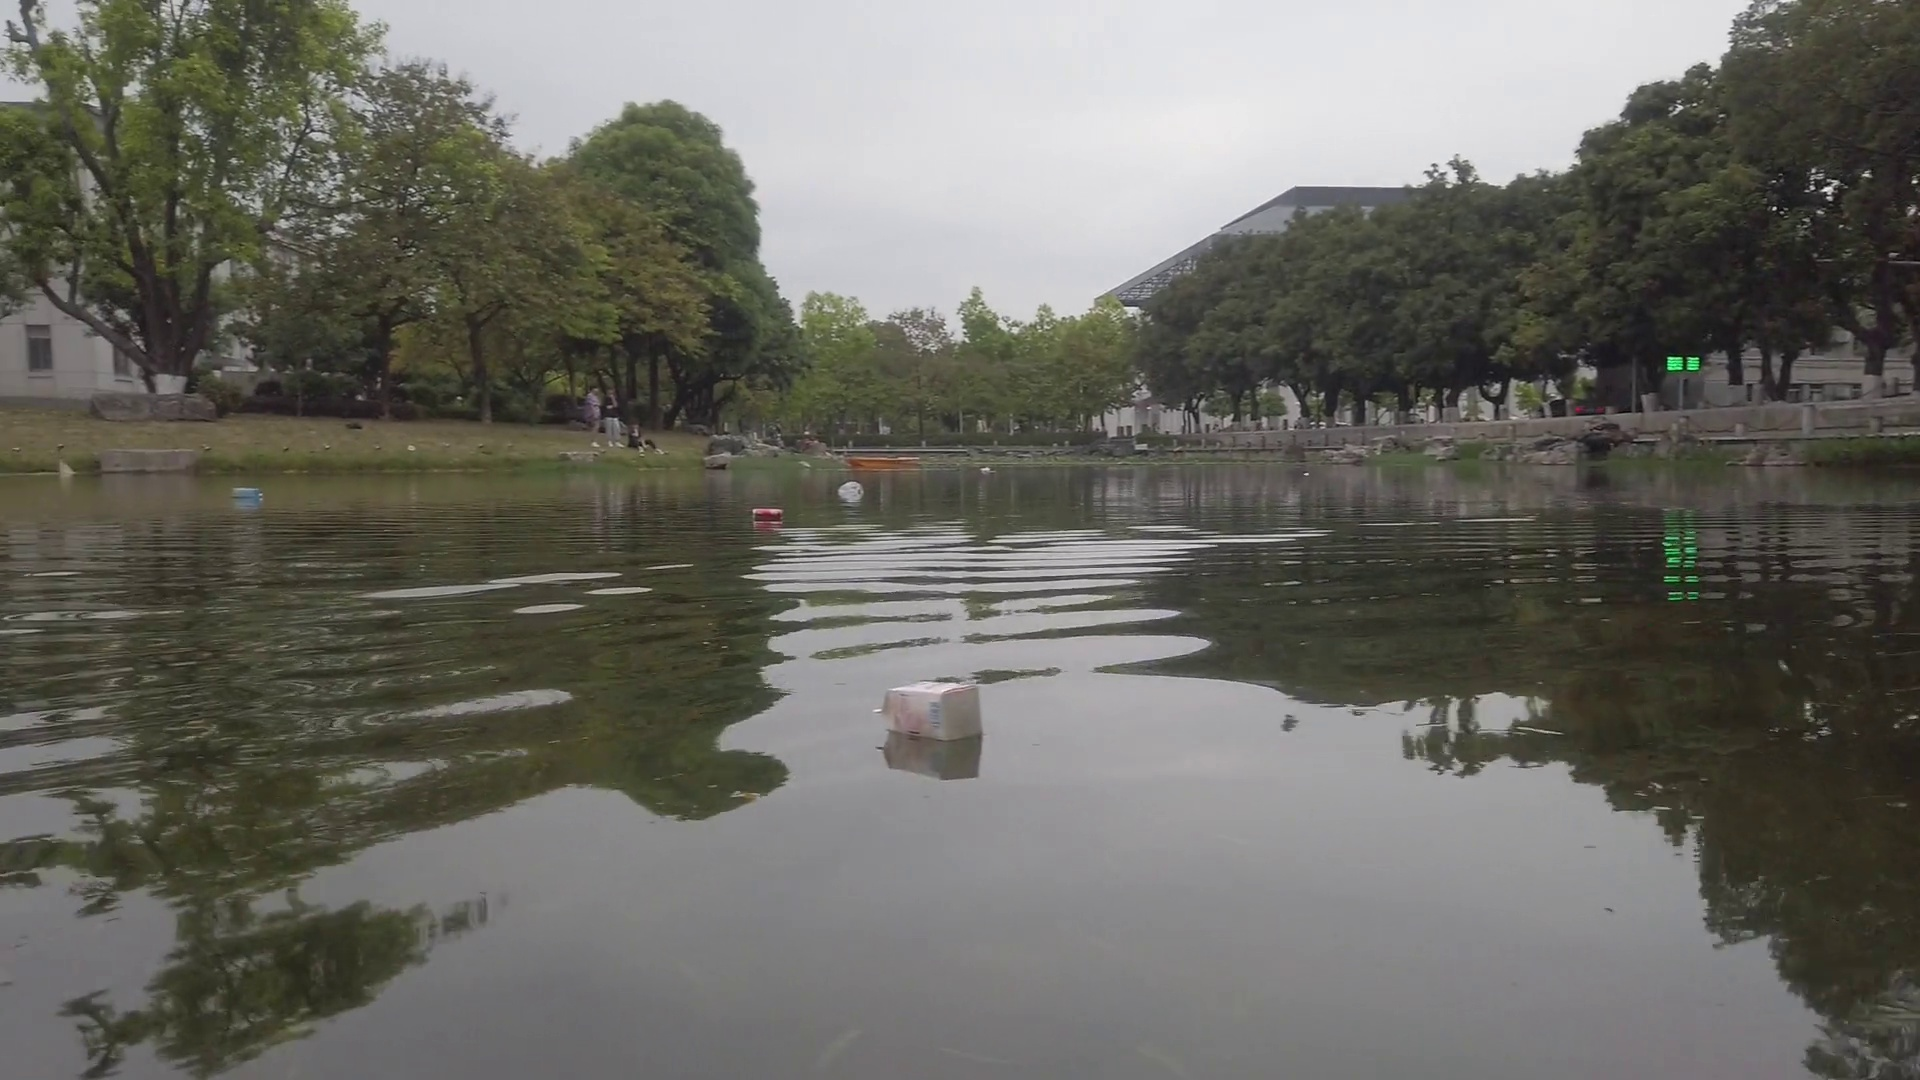bottle: (752, 506, 786, 524)
carton: (880, 679, 982, 737), (231, 485, 264, 505)
plastic: (839, 480, 865, 501), (982, 465, 992, 473)
